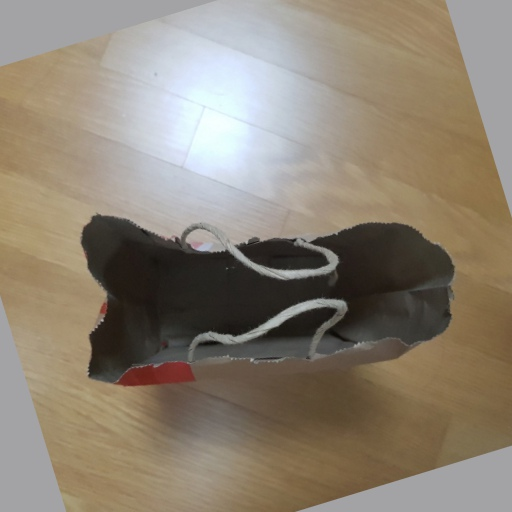Paper_0: (70, 204, 461, 393)
